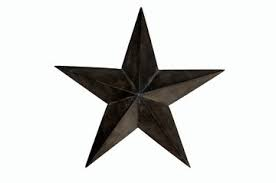star: (52, 6, 228, 169)
